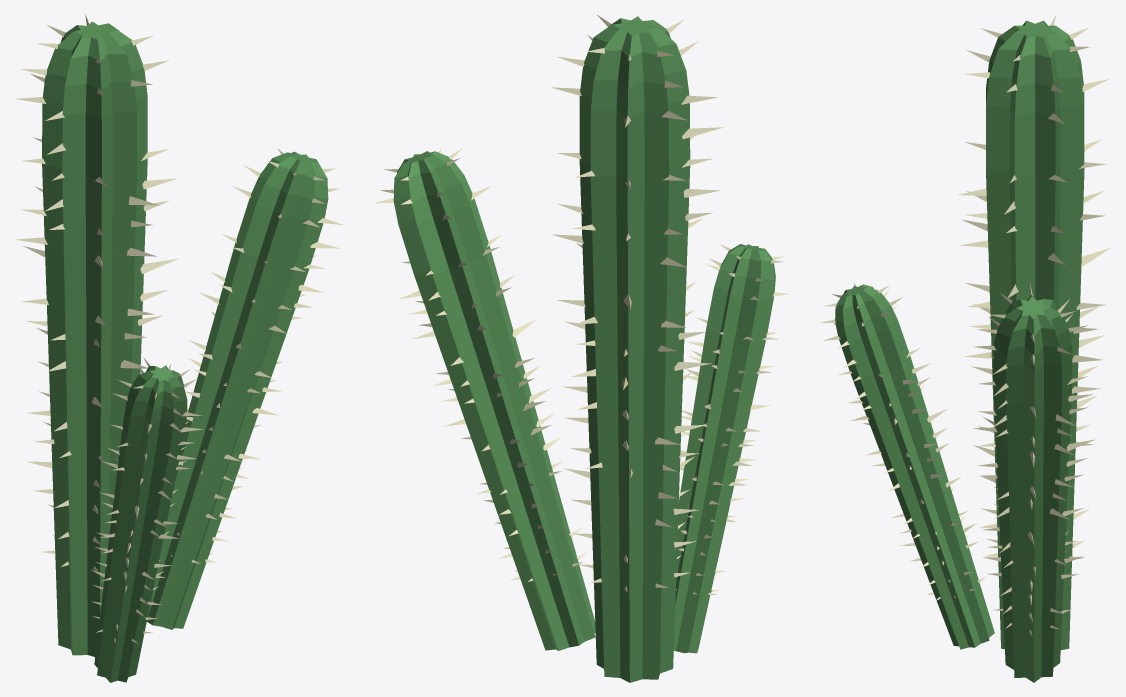
Rendered from Big_Cactus_001.fbx.
The picture shows the model from 3 angles, left to right: view 1: azimuth 30°, elevation 25°; view 2: azimuth 150°, elevation 25°; view 3: azimuth 270°, elevation 25°; orthographic projection. The views are drawn at different scales.
Visible parts, largest first — view 1: Big_Cactus_001; view 2: Big_Cactus_001; view 3: Big_Cactus_001.
Boxes of the visible parts, bbox=[...] form: Big_Cactus_001: bbox=[15, 14, 343, 682]; Big_Cactus_001: bbox=[374, 15, 789, 682]; Big_Cactus_001: bbox=[820, 15, 1110, 682].
Bounding box in the file's own units: 1.59 × 3.02 × 1.29.
